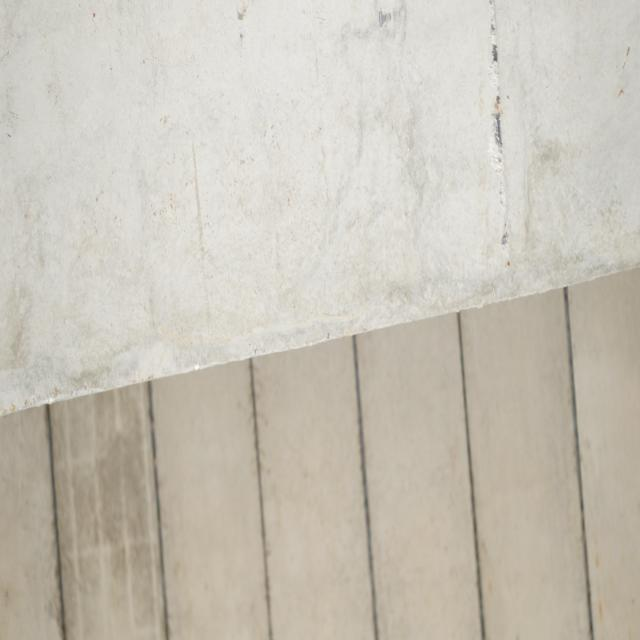concrete spalling: (490, 0, 499, 84), (491, 109, 502, 151)
